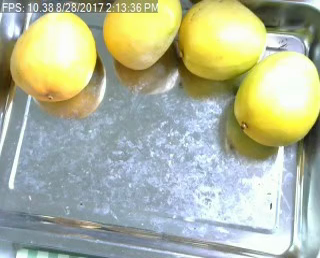Mango: (234, 50, 320, 147), (9, 9, 96, 102), (175, 0, 268, 80), (101, 0, 182, 71)
